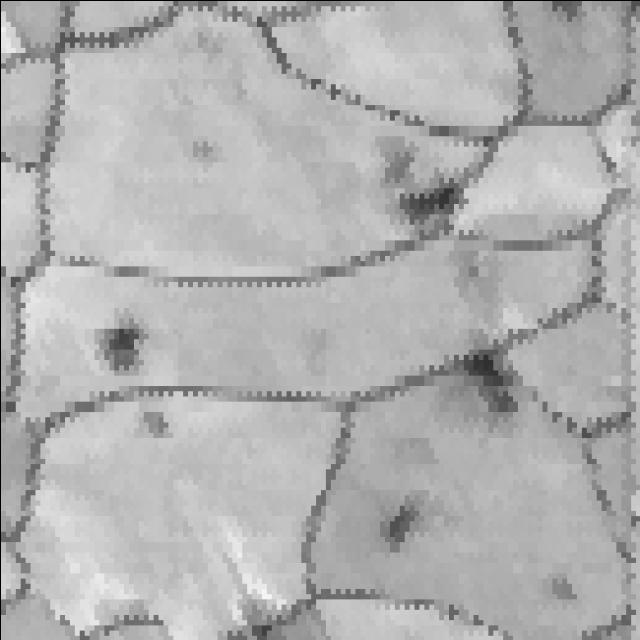good_void: (443, 347, 521, 412), (394, 180, 468, 232), (94, 323, 148, 375), (371, 502, 429, 548), (136, 405, 179, 442), (547, 567, 577, 604)
